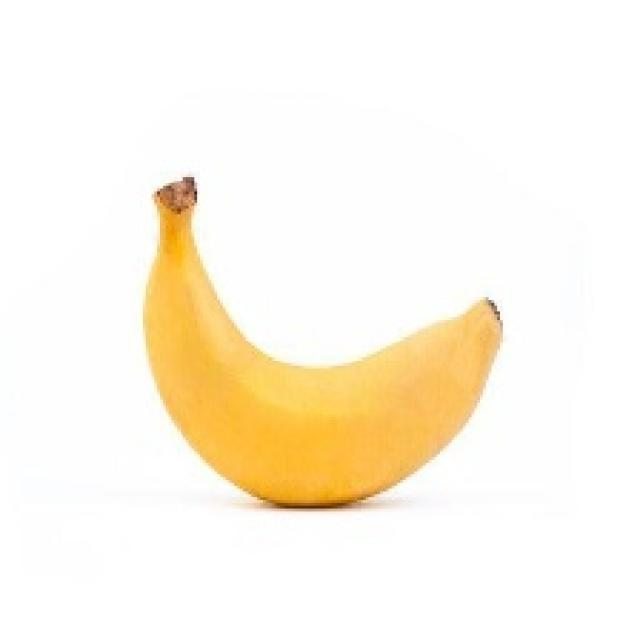Banana: (140, 174, 503, 506)
